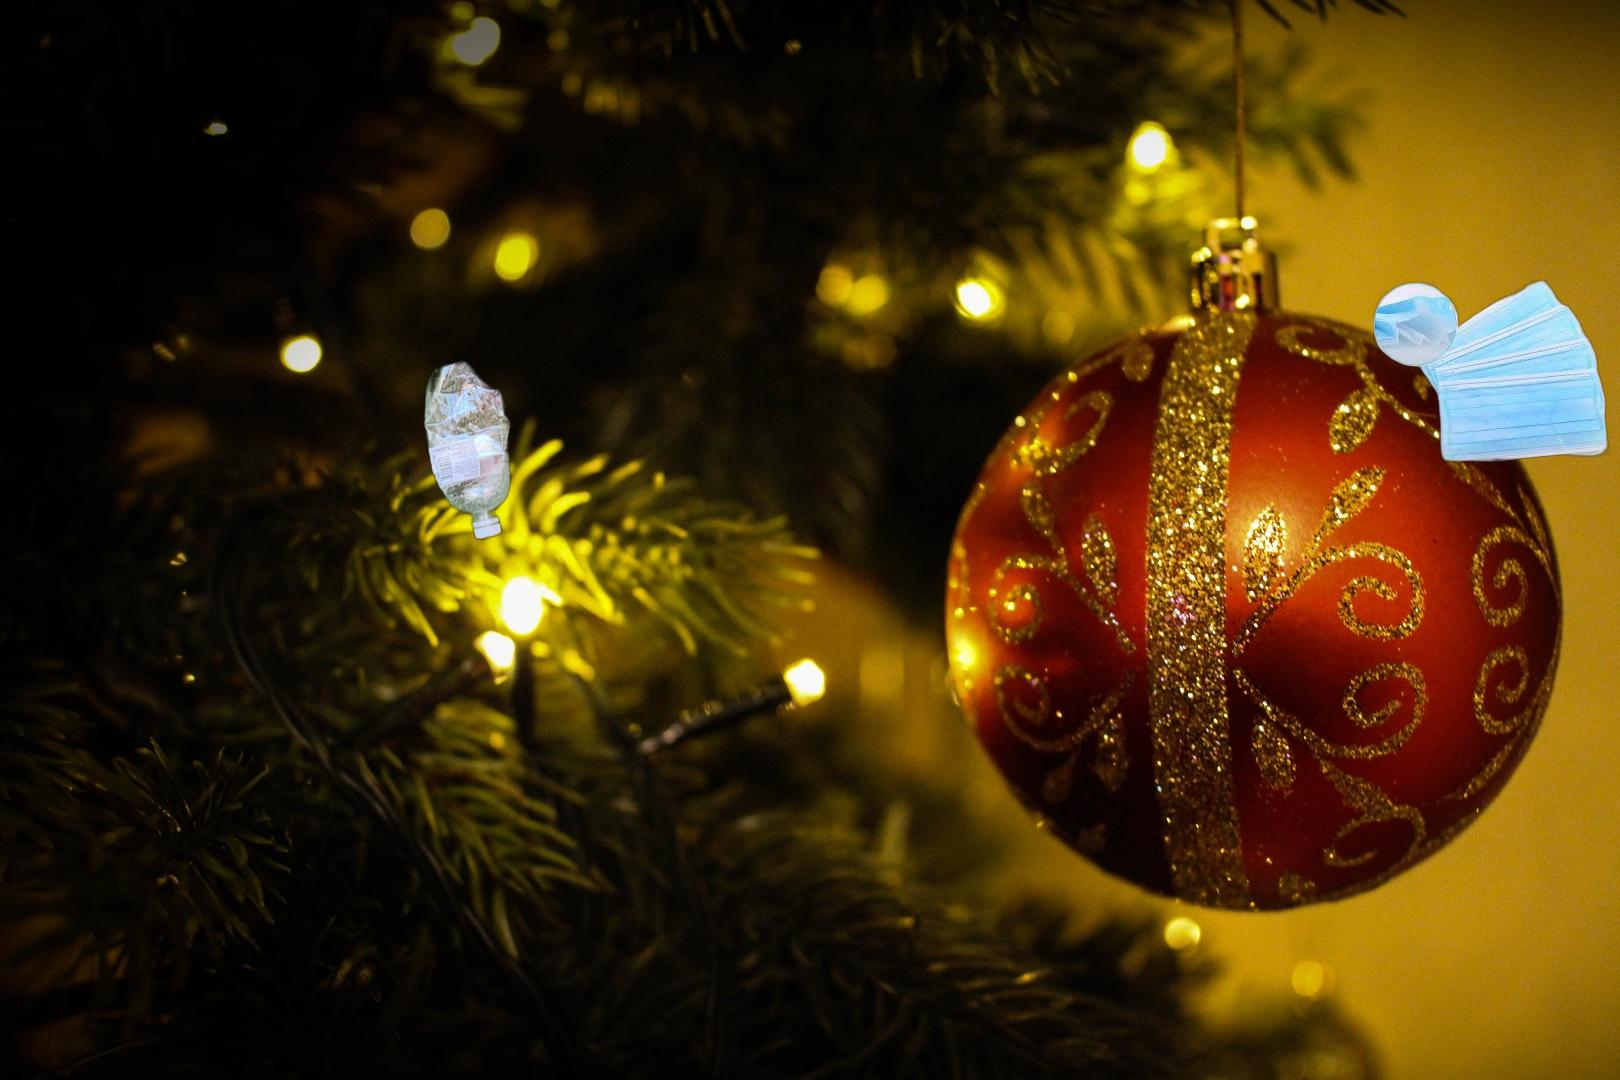plastic-bottles: (419, 356, 518, 546)
trash: (1373, 280, 1614, 463)
